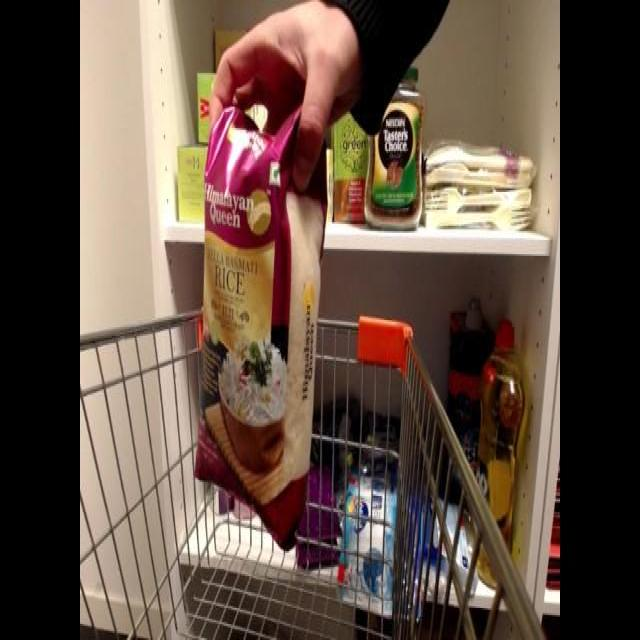Basmati Rice: (188, 92, 332, 558)
